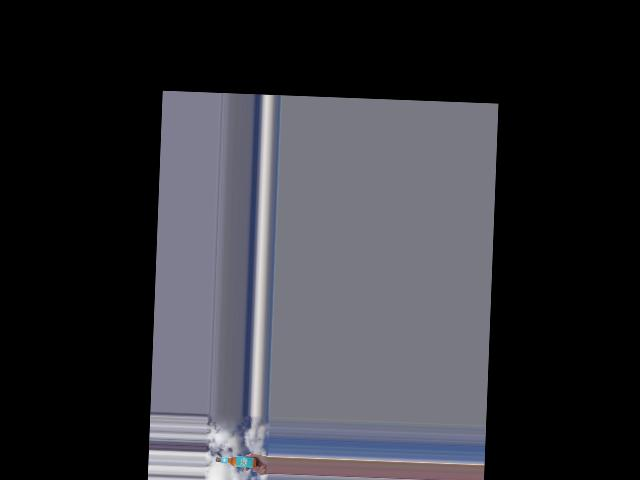beer: (215, 454, 257, 467)
